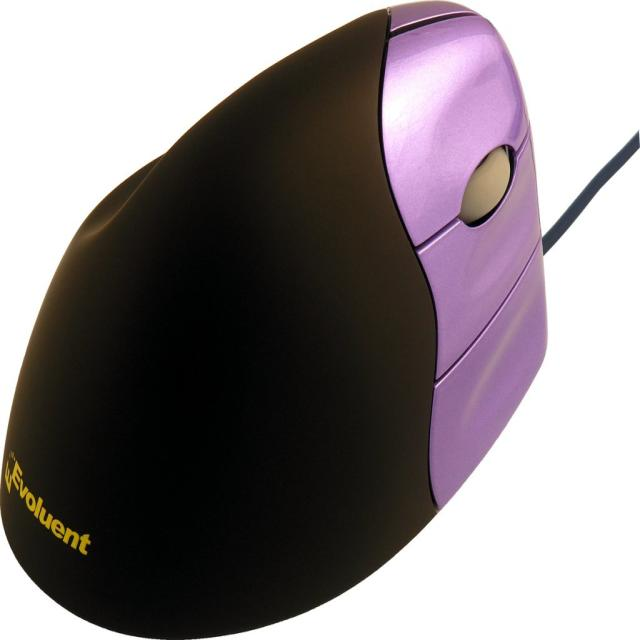Computer-mouse: (0, 0, 547, 638)
